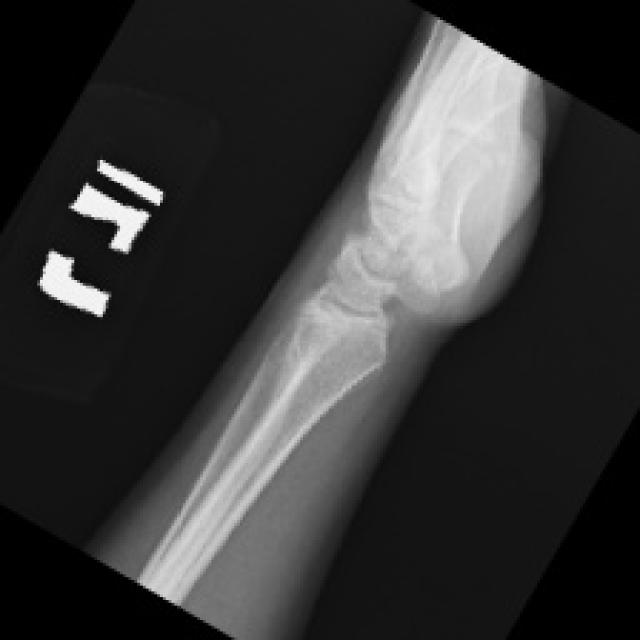fracture: (316, 202, 490, 421)
